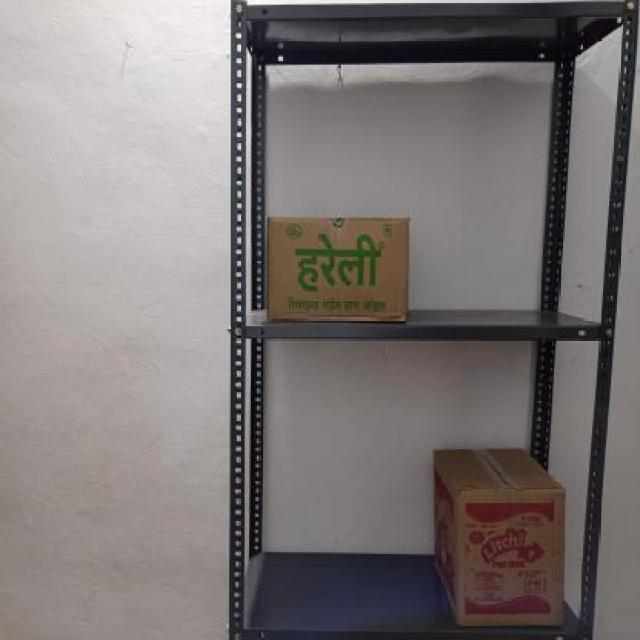box: (266, 216, 408, 324), (457, 486, 565, 628)
